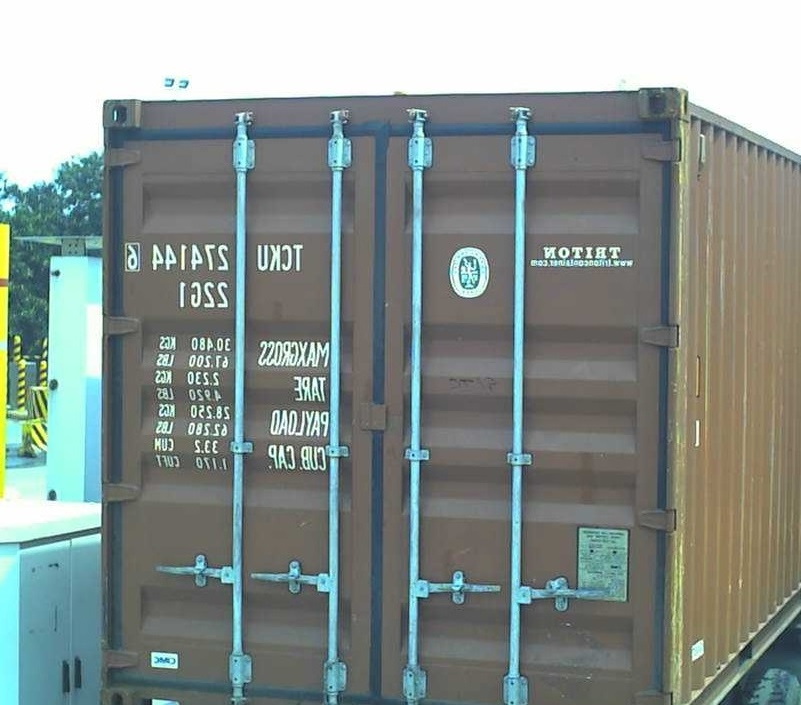container_door: (101, 88, 683, 705)
